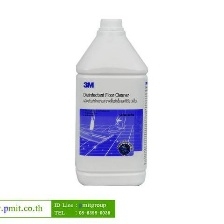cleaning_solution: (73, 16, 150, 188)
